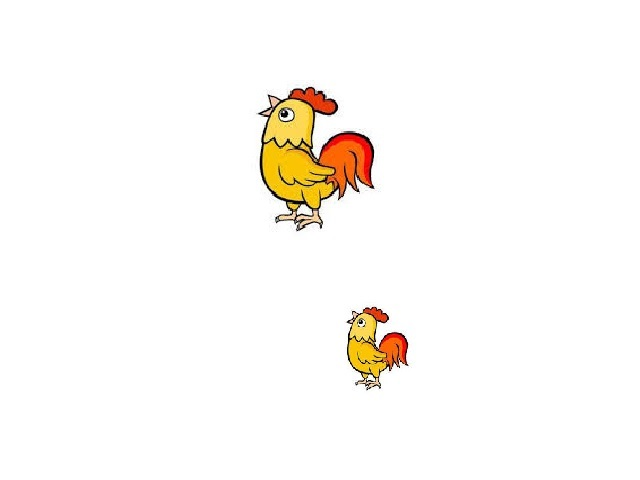crown: (290, 87, 339, 116), (364, 305, 392, 325)
eyes: (280, 105, 294, 121), (356, 320, 364, 329)
feet: (273, 206, 326, 230), (356, 374, 381, 391)
tail: (314, 135, 381, 193), (378, 333, 413, 369)
